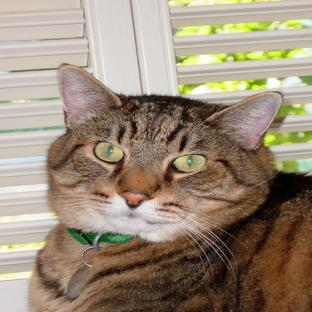Animal: (30, 64, 312, 311)
